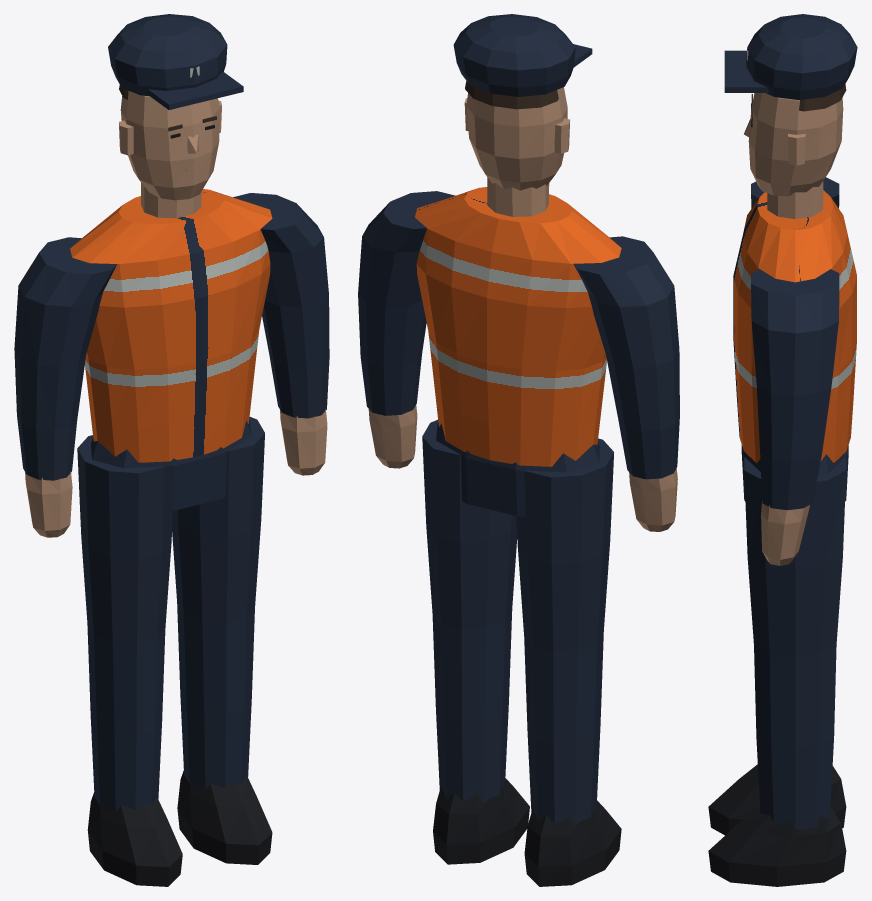
The model's file is mashinist.glb.
3 renders of one model, left to right at view 1: azimuth 30°, elevation 25°; view 2: azimuth 150°, elevation 25°; view 3: azimuth 270°, elevation 25°, orthographic. The views are drawn at different scales.
Visible parts, largest first — view 1: Driver_fixed; view 2: Driver_fixed; view 3: Driver_fixed.
Boxes of the visible parts, x1=… form: Driver_fixed: x1=14, y1=14, x2=329, y2=886; Driver_fixed: x1=358, y1=14, x2=679, y2=886; Driver_fixed: x1=708, y1=14, x2=857, y2=886.
Size of the model in its own units: 0.69 by 1.77 by 0.292.
Materials: 1 (1 with a texture image).
